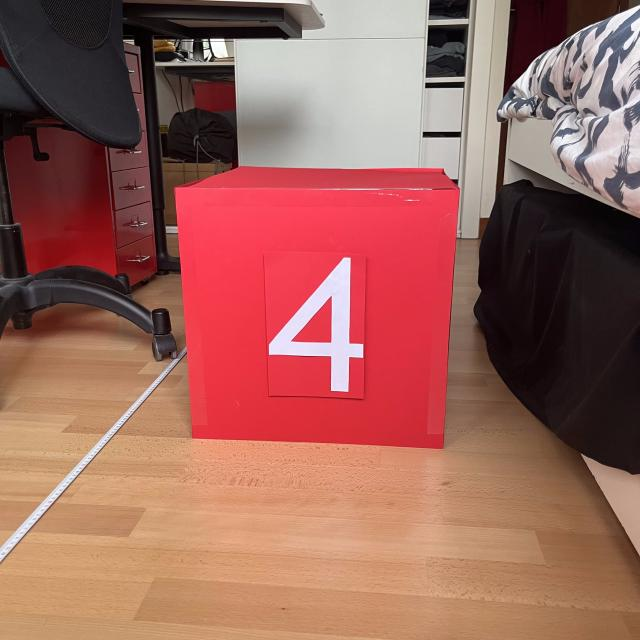box: (170, 160, 463, 452)
